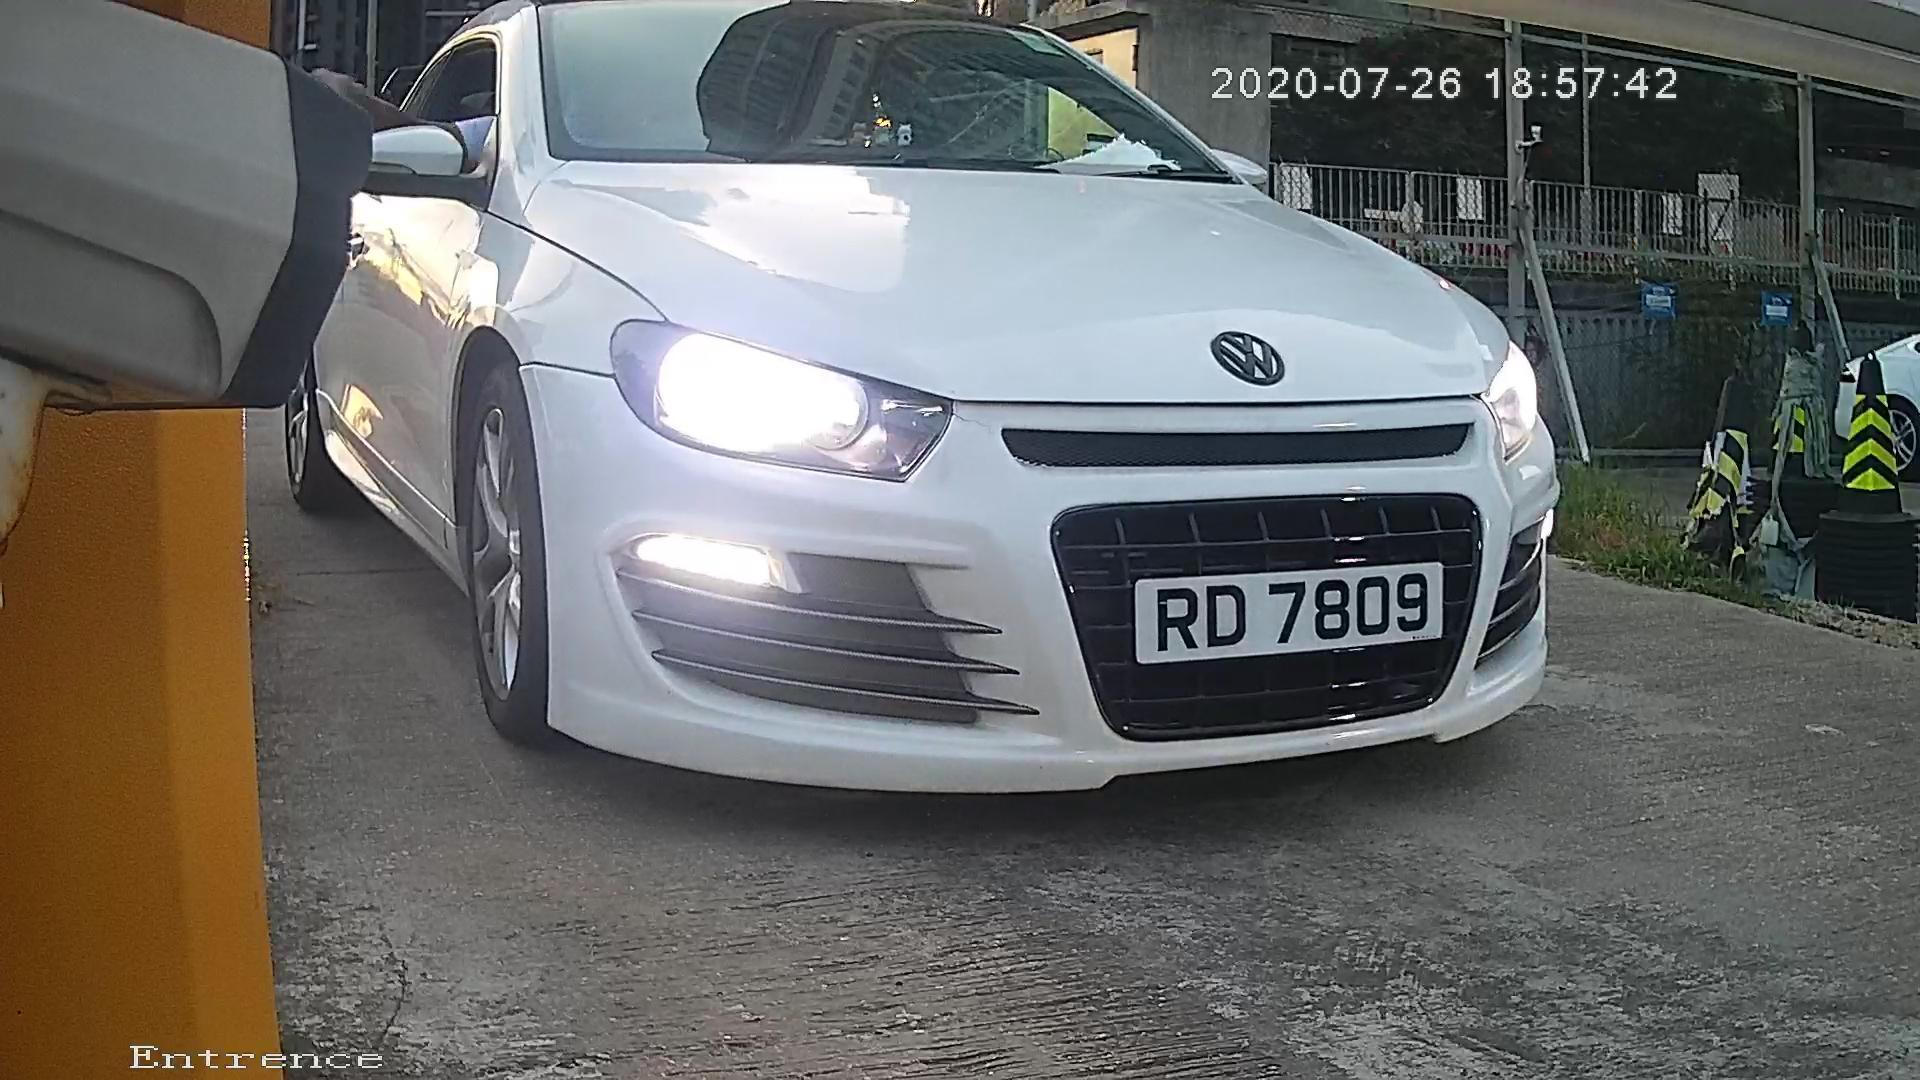License Plate: (1101, 547, 1462, 671)
